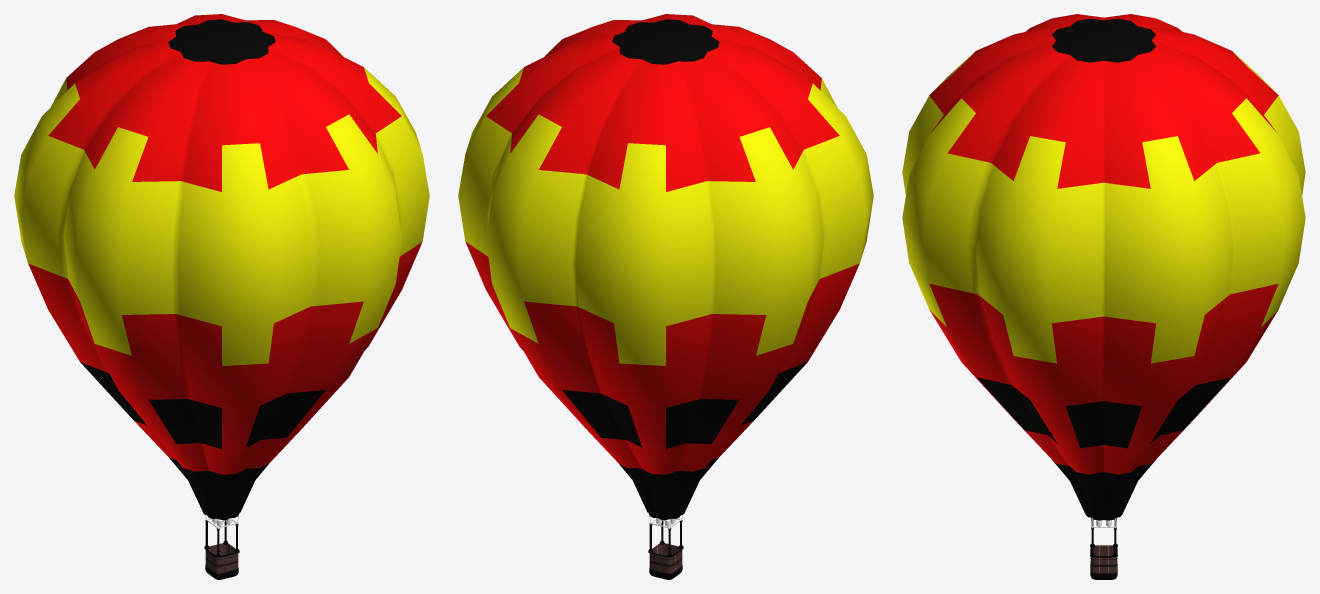
The model's file is hot_air_balloon_yellow_red.glb.
The picture shows the model from 3 angles, left to right: view 1: azimuth 30°, elevation 25°; view 2: azimuth 150°, elevation 25°; view 3: azimuth 270°, elevation 25°; orthographic projection.
Visible parts, largest first — view 1: Object_7, Object_6, Object_9, Object_5, Object_8; view 2: Object_7, Object_6, Object_9, Object_5, Object_8; view 3: Object_7, Object_6, Object_9, Object_5, Object_8.
Part boxes in pixels (left/top/right/bottom): Object_7: left=14, top=67, right=429, bottom=365; Object_6: left=28, top=27, right=422, bottom=449; Object_9: left=48, top=14, right=401, bottom=474; Object_5: left=80, top=19, right=368, bottom=519; Object_8: left=205, top=543, right=238, bottom=573; Object_7: left=458, top=67, right=873, bottom=365; Object_6: left=465, top=27, right=859, bottom=449; Object_9: left=486, top=14, right=839, bottom=474; Object_5: left=519, top=19, right=807, bottom=519; Object_8: left=649, top=543, right=682, bottom=573; Object_7: left=902, top=53, right=1305, bottom=363; Object_6: left=929, top=19, right=1278, bottom=448; Object_9: left=947, top=14, right=1260, bottom=474; Object_5: left=976, top=18, right=1231, bottom=520; Object_8: left=1090, top=545, right=1117, bottom=573.
Size of the model in its own units: 22.42 by 33.16 by 22.42.
